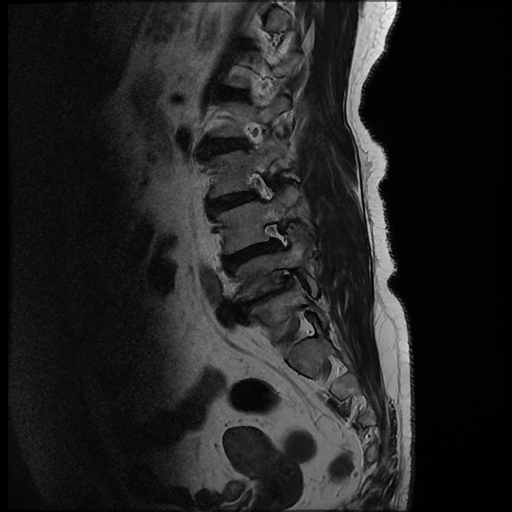LFS0: (239, 160, 279, 210), (255, 213, 295, 259)
